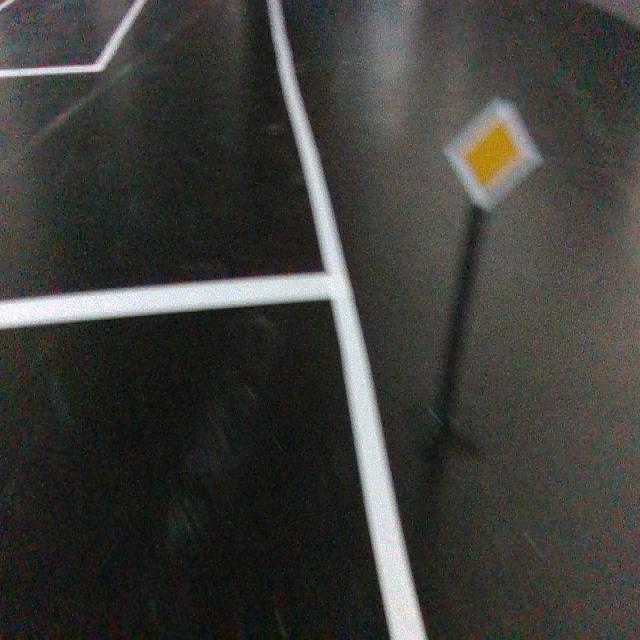priority-sign: (441, 94, 547, 214)
